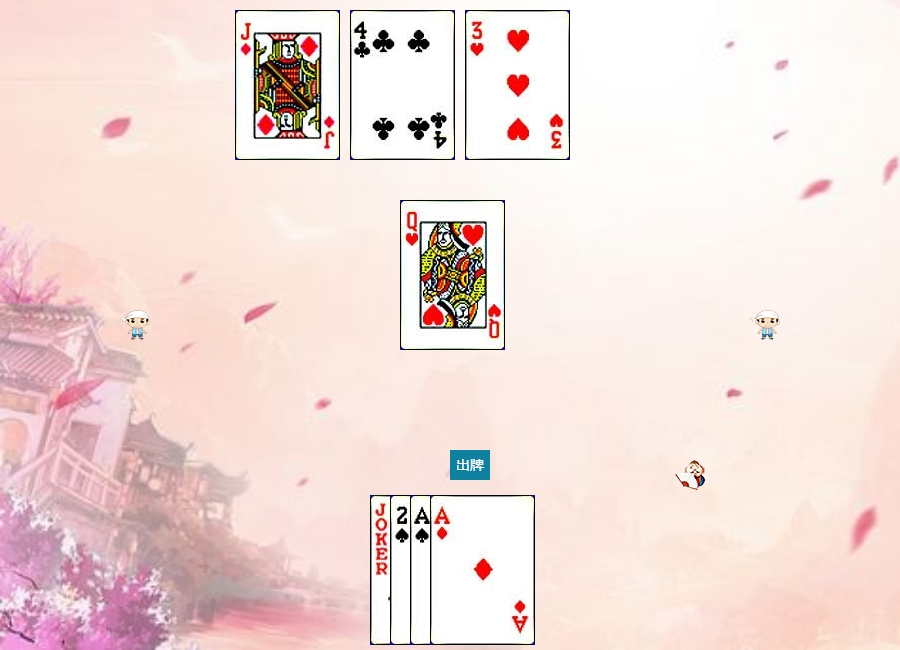11~1: (235, 10, 340, 160)
12~3: (400, 200, 505, 350)
14~1: (430, 495, 535, 645)
14~4: (410, 495, 515, 645)
15~4: (390, 495, 495, 645)
18~4: (370, 495, 475, 645)
3~3: (465, 10, 570, 160)
4~2: (350, 10, 455, 160)
